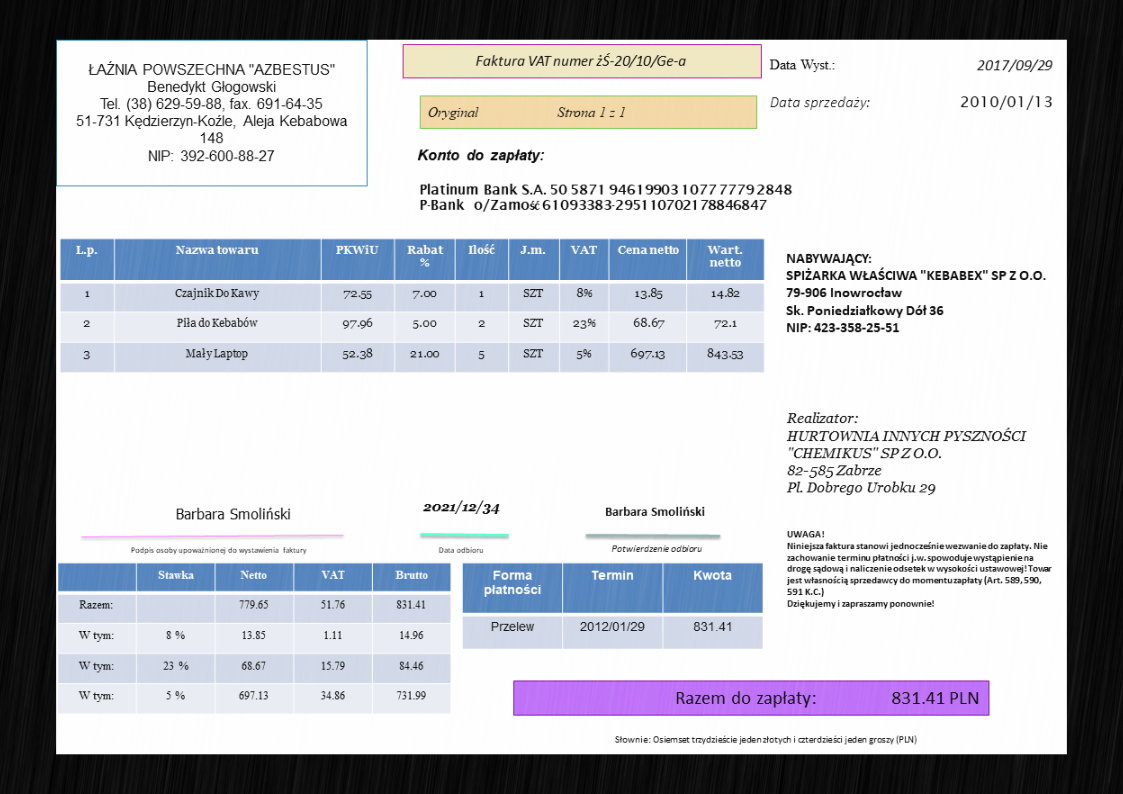Table: (59, 238, 765, 374), (57, 562, 452, 714), (461, 561, 764, 651)
TextBox: (73, 58, 350, 165), (784, 251, 1048, 336), (785, 528, 1053, 611), (784, 409, 1029, 496), (417, 180, 795, 213), (673, 688, 981, 709), (611, 733, 920, 748), (425, 104, 629, 123), (473, 52, 689, 69), (415, 145, 548, 166), (128, 544, 309, 556), (174, 504, 293, 522), (767, 94, 872, 112), (959, 93, 1052, 113), (422, 498, 502, 518), (602, 504, 707, 518), (974, 56, 1053, 74), (767, 56, 836, 75), (609, 543, 702, 554), (437, 545, 485, 554)
